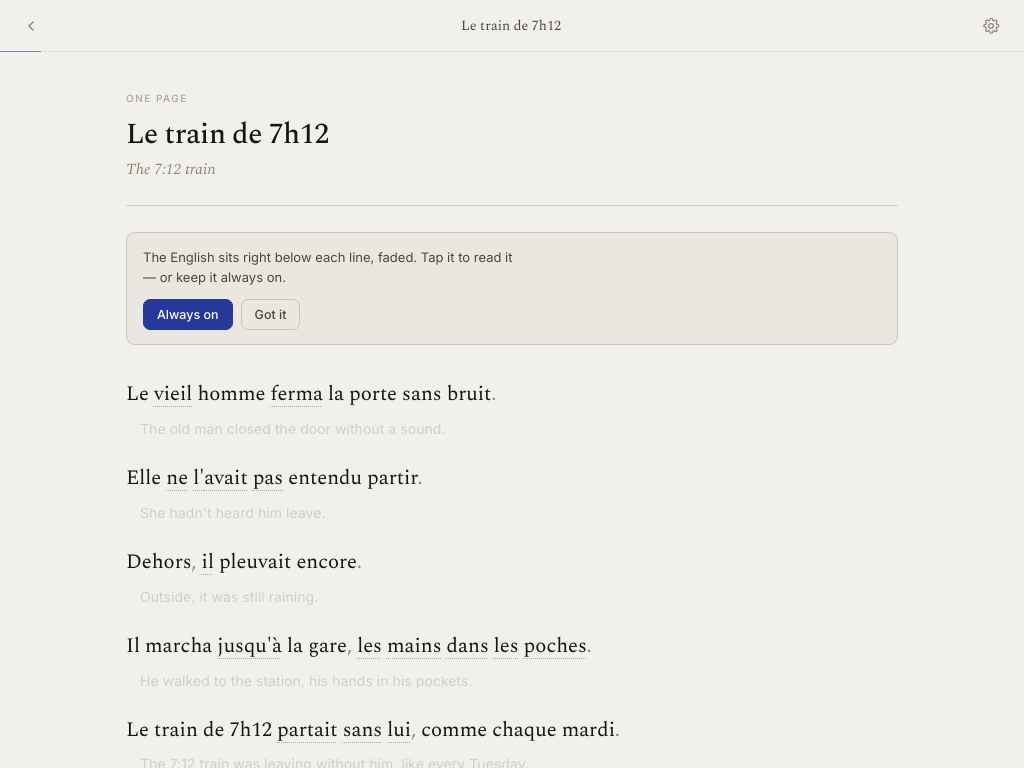
Test: the reader › opens the Why panel in the fixed order: gloss, note, rule, occurrences
// « vieil » on line 1 carries a note.
Click the button "vieil" at (173, 394), box x1=154 y1=378 x2=192 y2=409
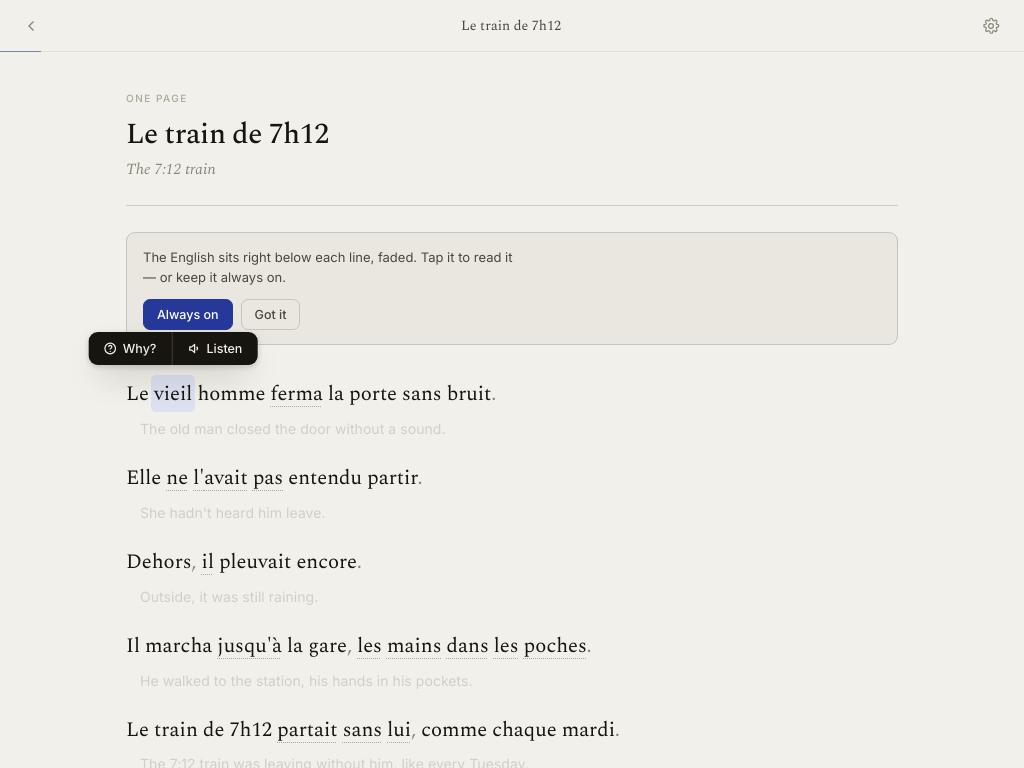
Click the button "Why?" at (130, 349), box x1=89 y1=332 x2=172 y2=365
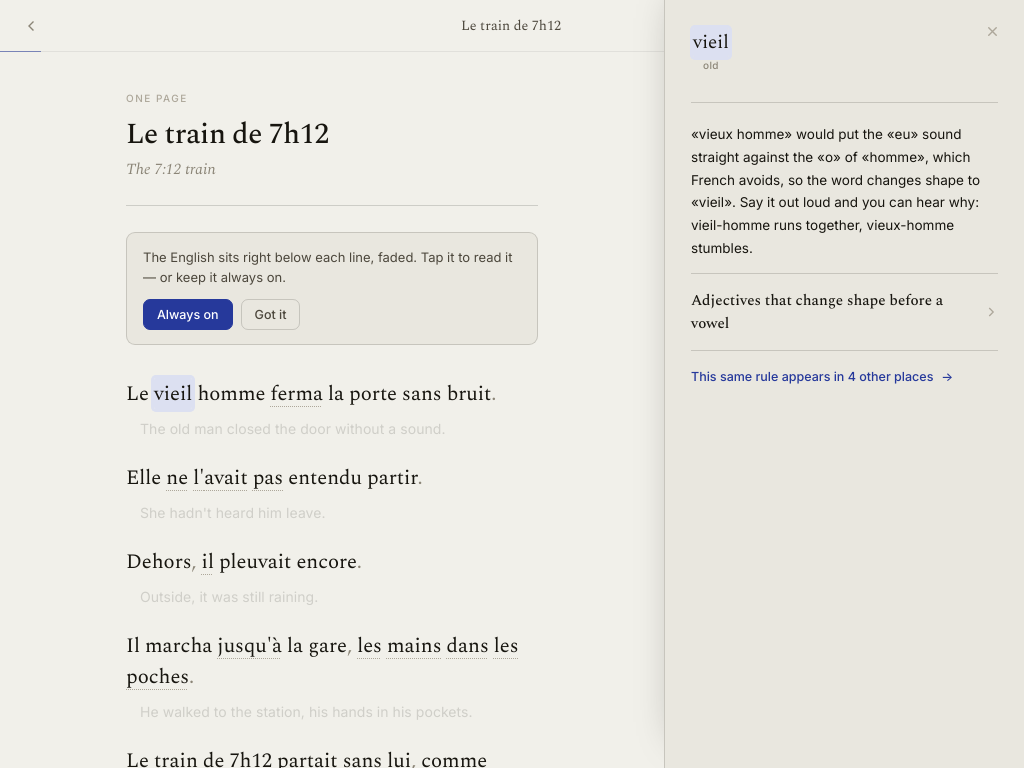
Result: the dialog with class "sheet" is shown at x1=664 y1=0 x2=1023 y2=767
Result: the element with class "selstrip" is shown at x1=691 y1=30 x2=998 y2=103
Result: the text with class "note" is shown at x1=691 y1=123 x2=998 y2=259
